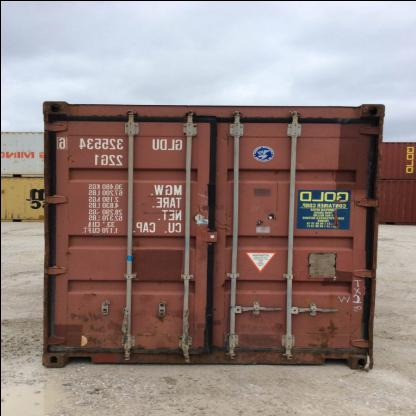Damage: (191, 186, 211, 268), (302, 319, 339, 348), (234, 333, 282, 350), (213, 204, 233, 239), (326, 197, 346, 228), (250, 210, 278, 232), (62, 308, 106, 321), (132, 321, 162, 337), (76, 290, 102, 304), (140, 208, 182, 214), (270, 318, 289, 330), (219, 132, 234, 147), (82, 334, 104, 344), (108, 320, 126, 332), (84, 324, 104, 334), (64, 149, 75, 163), (145, 192, 172, 197), (134, 341, 147, 351), (244, 311, 262, 318), (166, 334, 178, 344), (271, 164, 283, 174), (344, 308, 354, 319), (63, 247, 73, 257), (328, 169, 336, 179), (84, 276, 96, 280)
